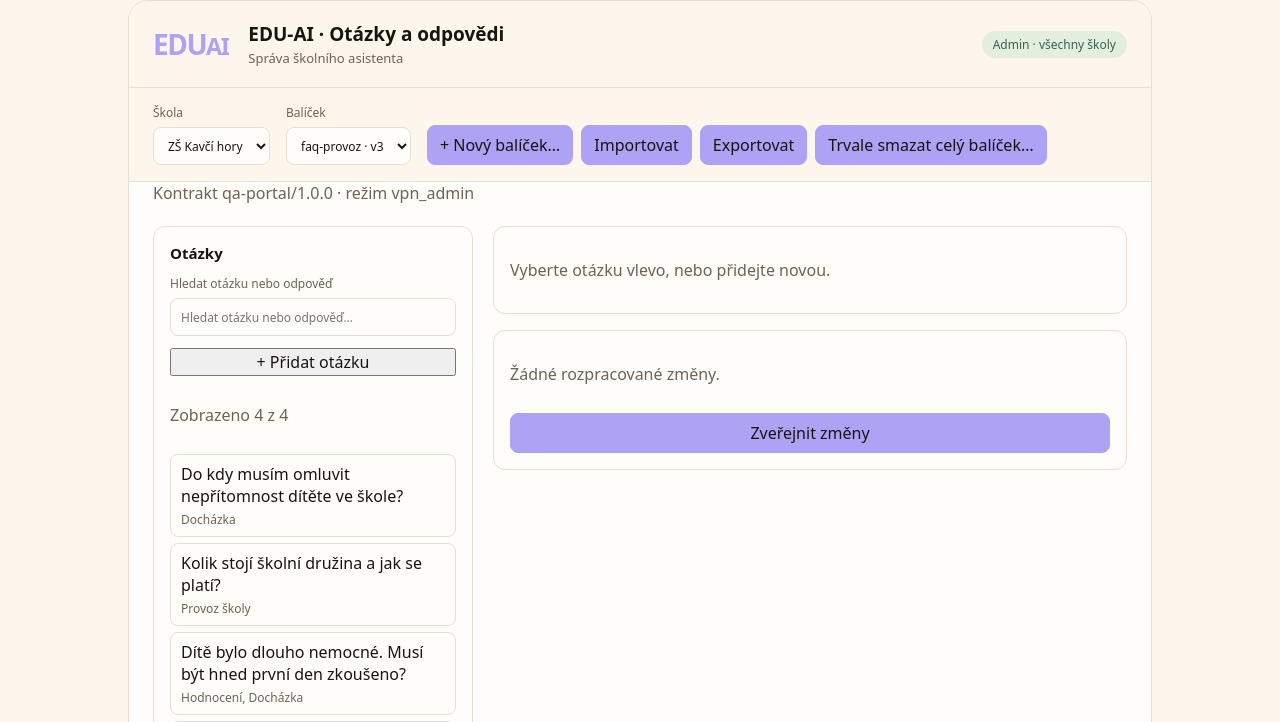
Test case: school and pack selection with the entry list › passes the search box query through to listEntries
Expected: the text "Do kdy musím omluvit nepřítomnost dítěte ve škole?" is shown, [181,463,403,507]
Step 1. Type "družin" into the search field labelled "Hledat otázku nebo odpověď" → (313, 317), box [170,298,456,336]
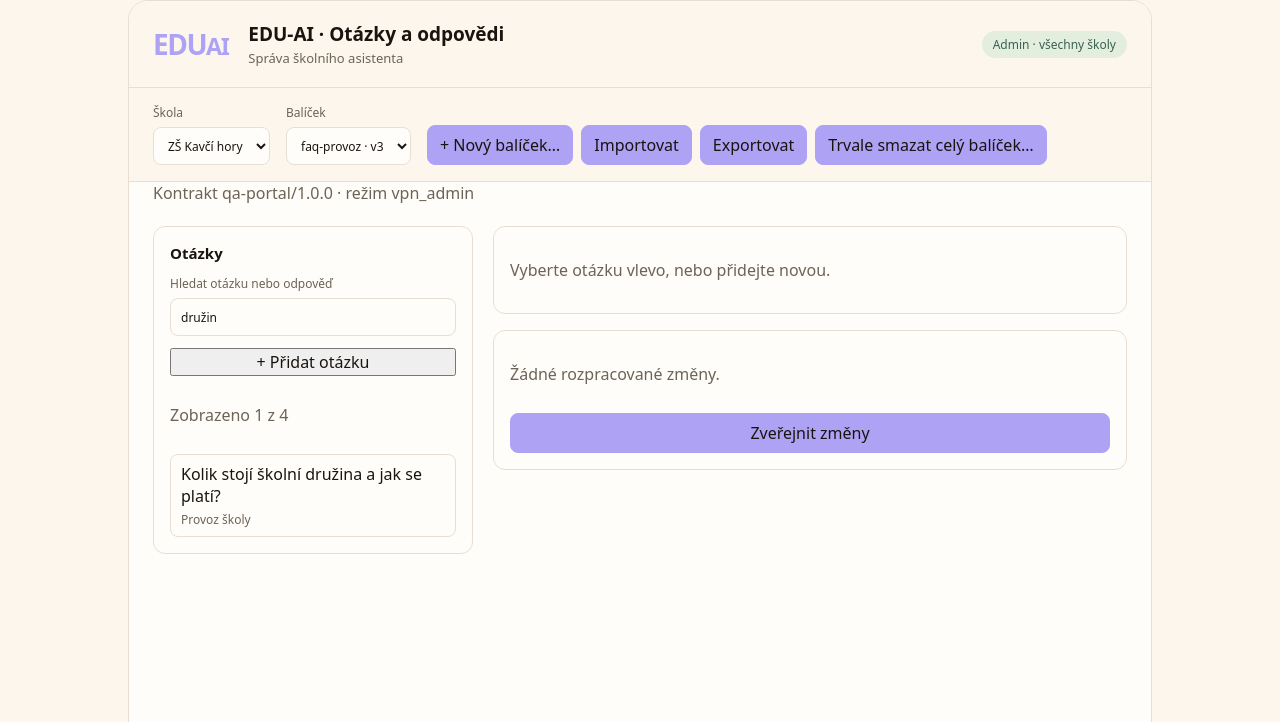
Expected: the text "Kolik stojí školní družina a jak se platí?" is shown, [181,463,445,507]
Expected: the button "Do kdy musím omluvit nepřítomnost dítěte ve škole?" is gone
